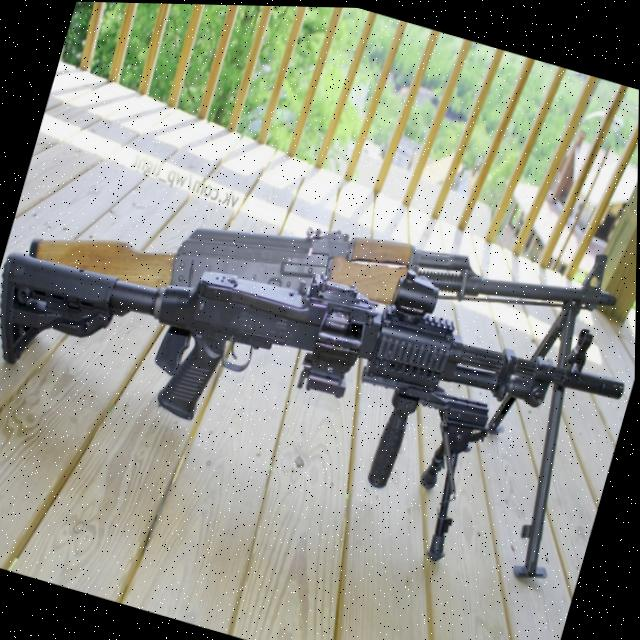firearm: (0, 170, 636, 527), (29, 96, 630, 416)
